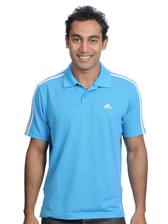clothoes: (25, 62, 147, 220)
